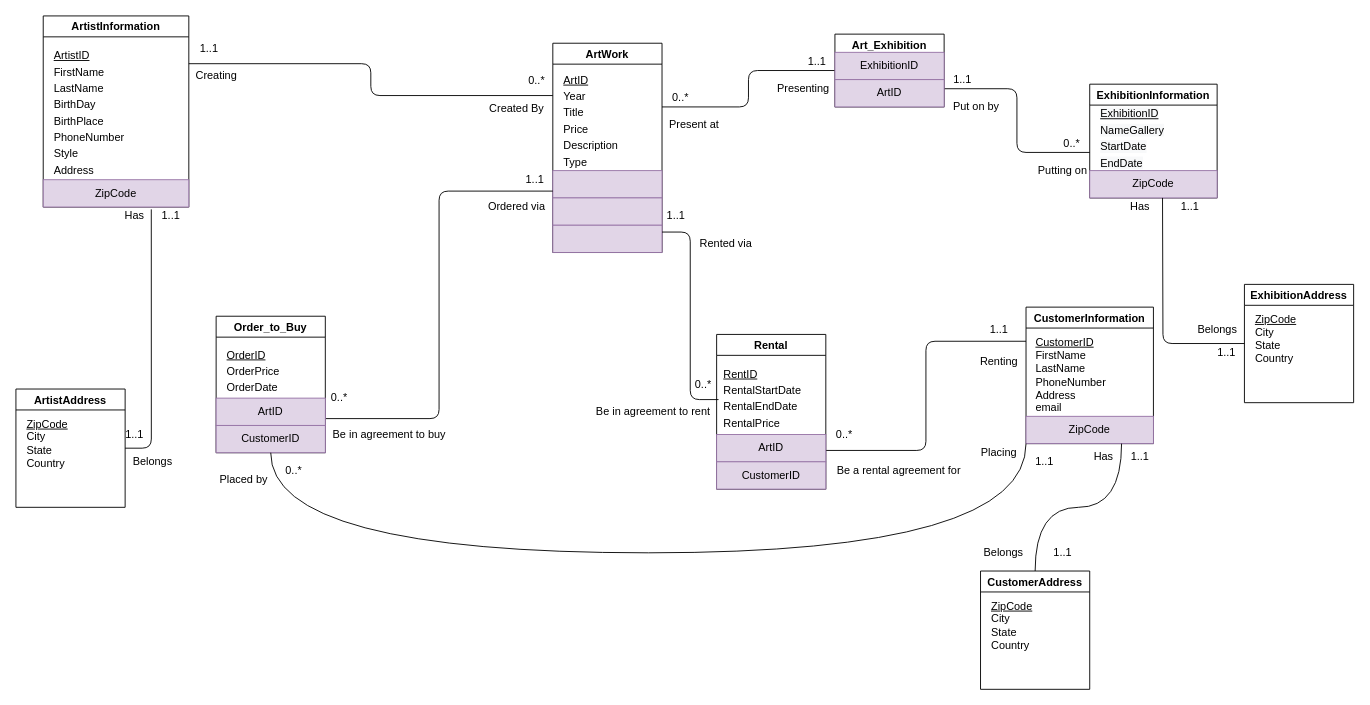
Image size: 1370x705. Some labels were removed from this diagram. The shapes that lost their labels are listed below. From the top down, each one's centre as x and y in pixels, then its label:
pixel 607 184: ArtistID
pixel 607 211: RentalID
pixel 607 238: OrderID
